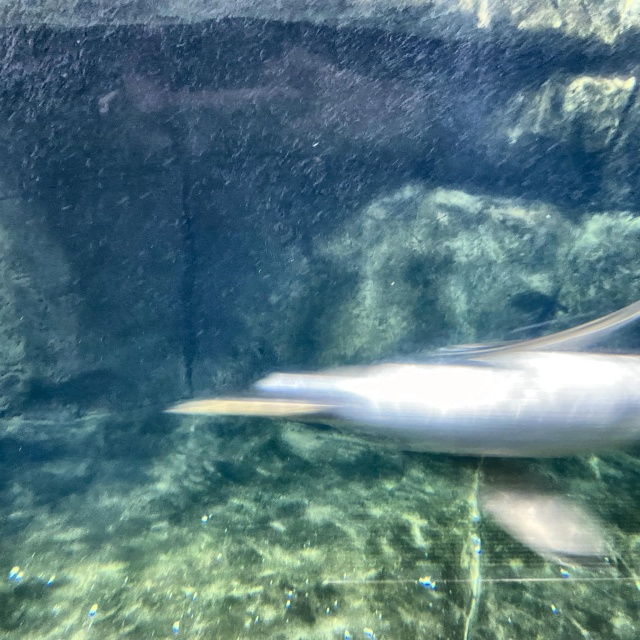penguin: (161, 300, 639, 569)
